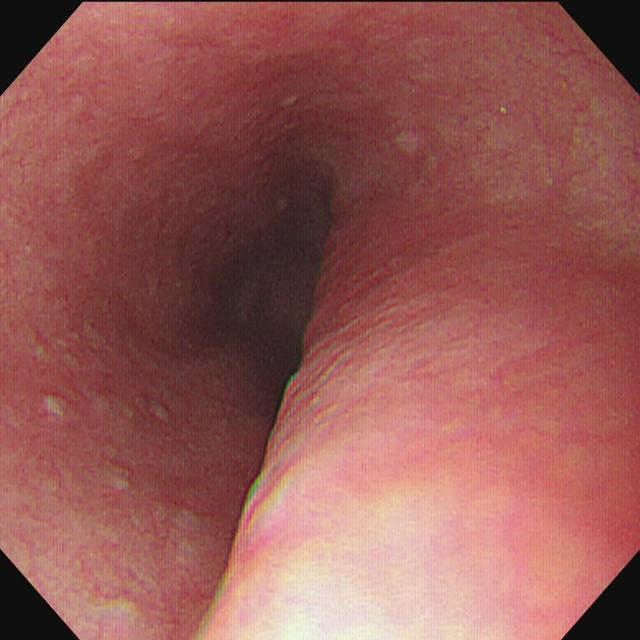E: (192, 140, 370, 429)
J: (16, 307, 190, 445)
